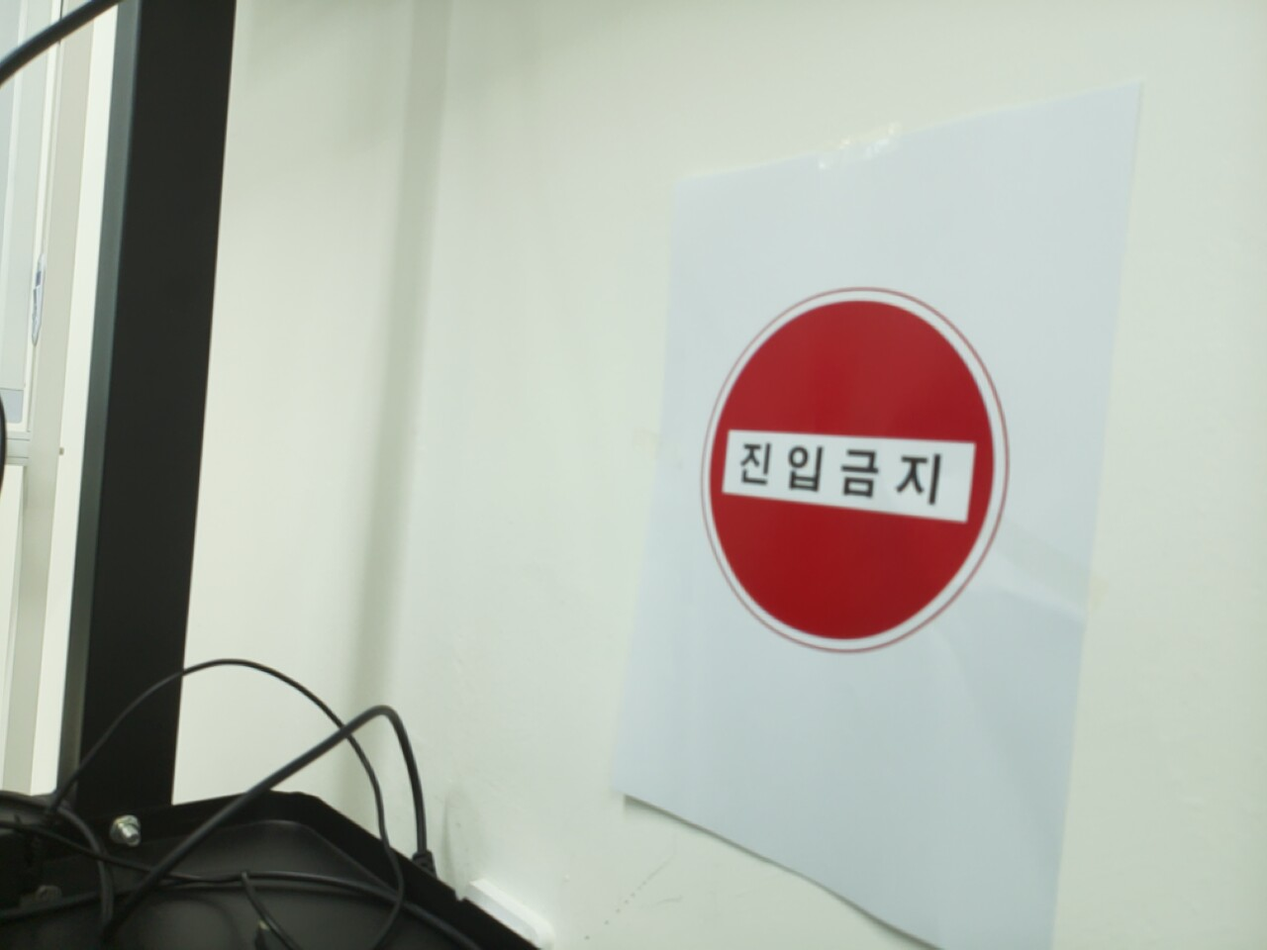do_not_enter: (700, 290, 1003, 651)
